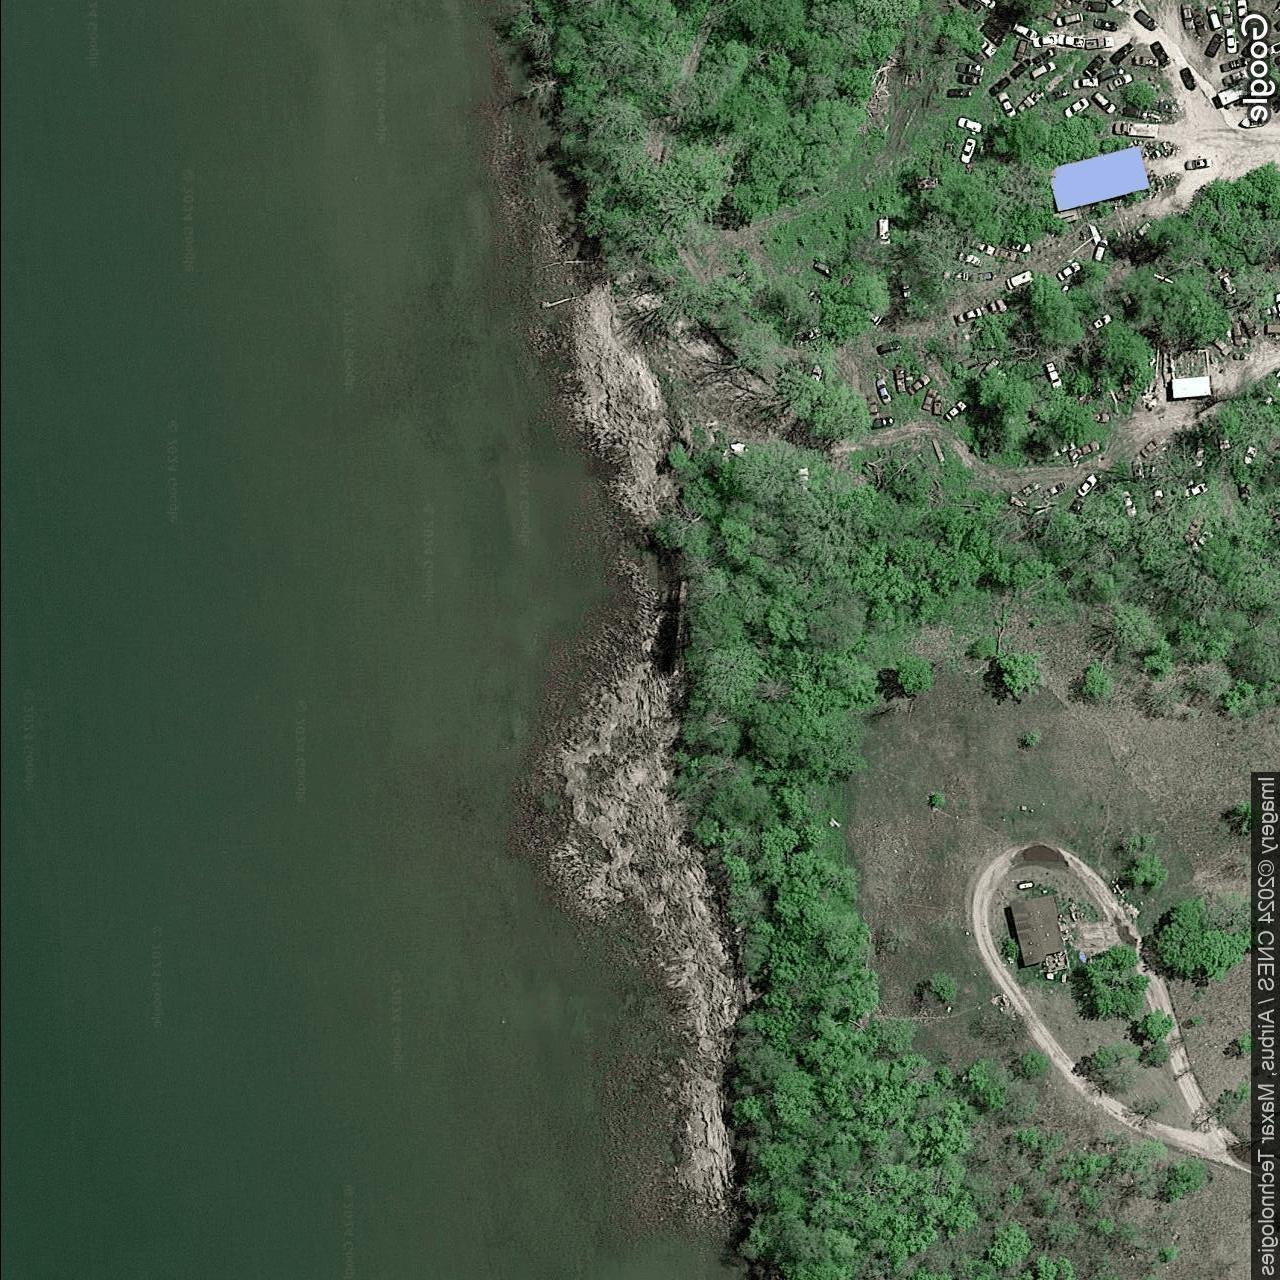Garage: (1048, 147, 1150, 212)
House: (1009, 893, 1064, 967)
Propane: (1016, 880, 1034, 891)
